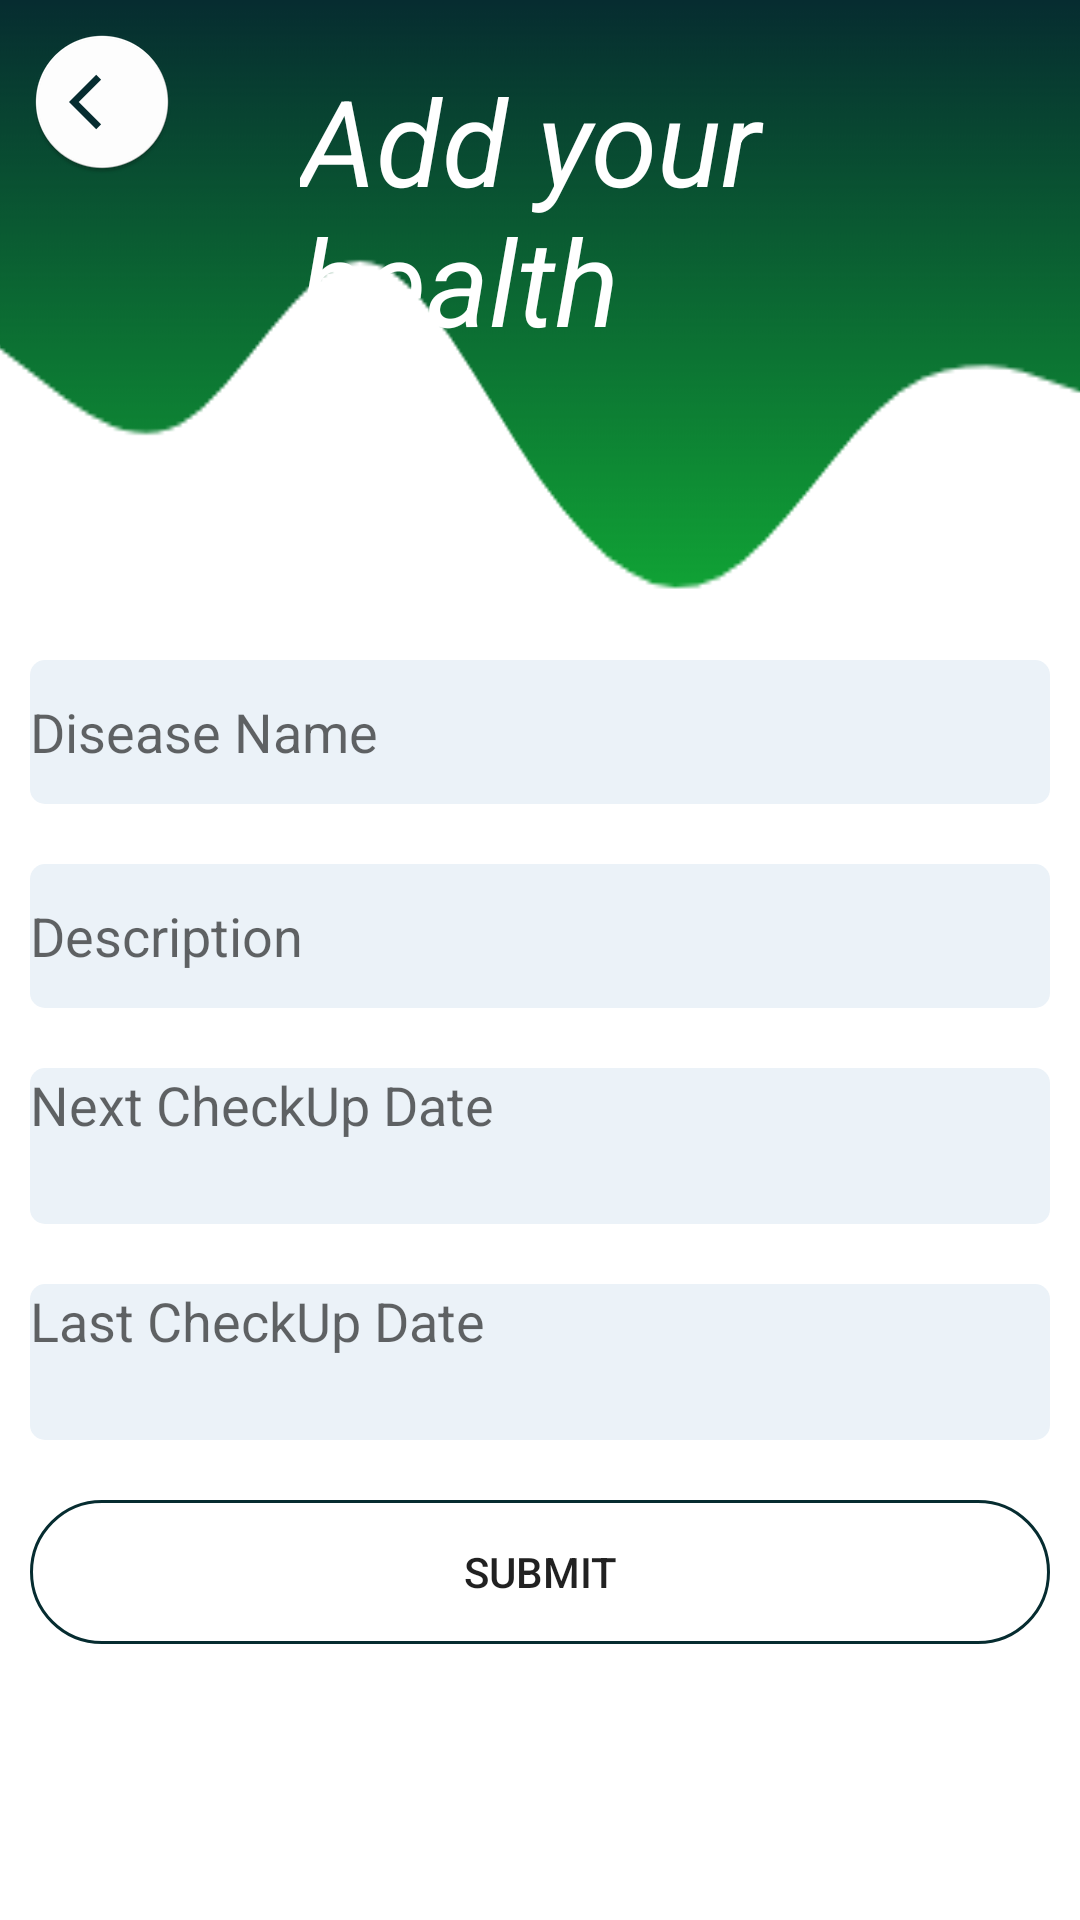

Icon bounding boxes for this 1080px x 1920px phone screenshot, format (x1=x1, y1=y1, x2=x2, y2=y2):
back: (x1=35, y1=35, x2=169, y2=168)
